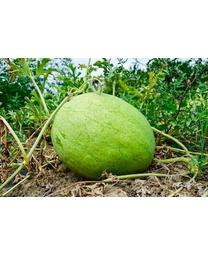watermelon: (50, 92, 156, 177)
